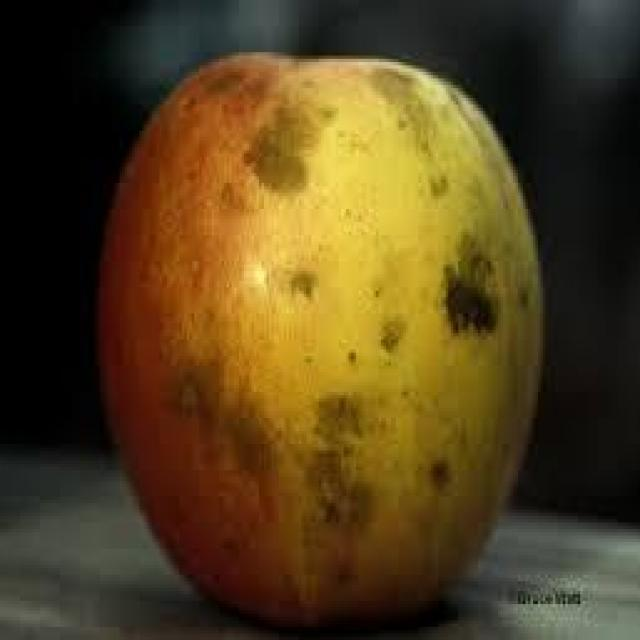Apple: (97, 42, 548, 633)
